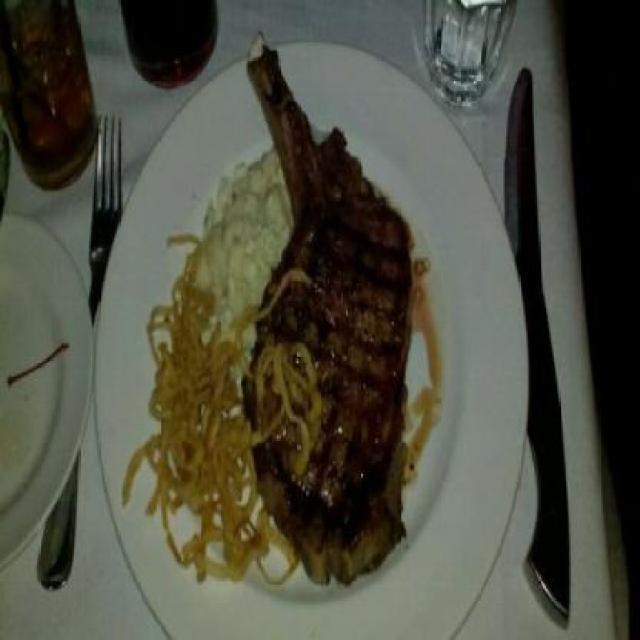Steak: (224, 39, 446, 578)
